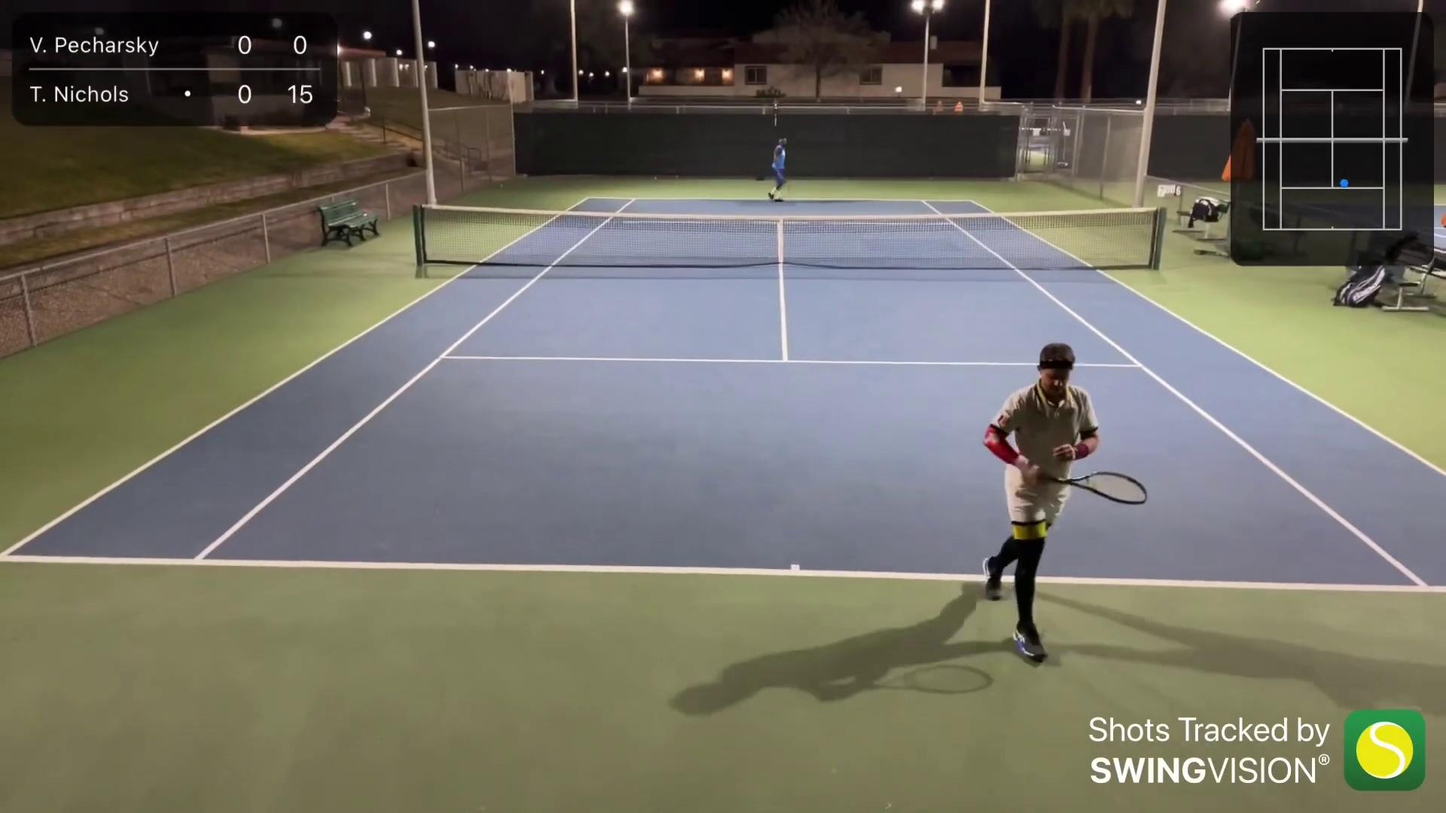ball: (496, 182, 507, 190)
